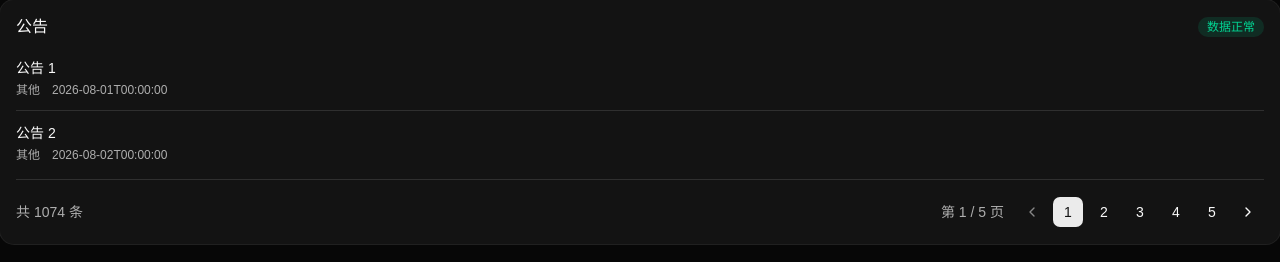
AnnounceSection 公告分区分页（M12 T95） › 翻页调子端点并整体替换：第 2 页条目落地、首屏条目移除、滚动容器回顶
Click the button with test id "announce-pagination-page-2": (1104, 212) [1088,196,1120,228]
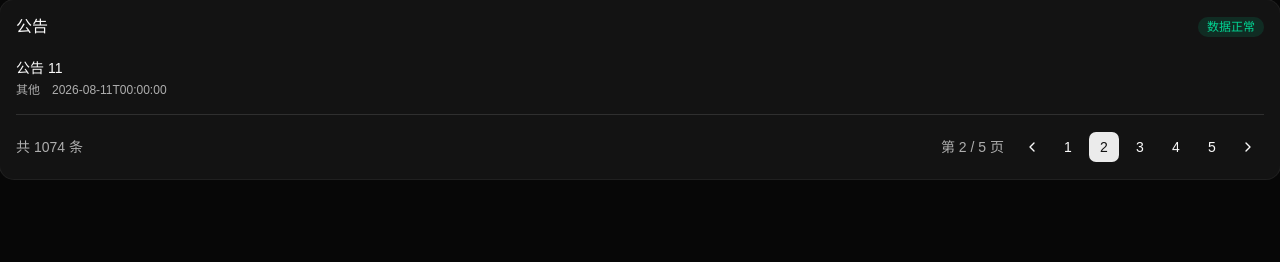
Check: the text with test id "announce-pagination-page-indicator" reads "第 2 / 5 页", box [941,137,1004,157]
Check: the number of list items is 1, box [16,60,167,97]
Check: the link "公告 11" is shown, box [16,60,62,76]
